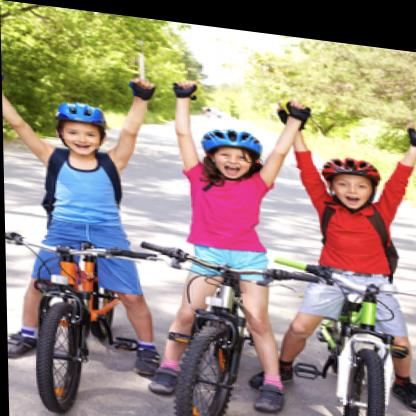With Helmet: (309, 141, 389, 210), (193, 120, 278, 181), (41, 96, 123, 155)
